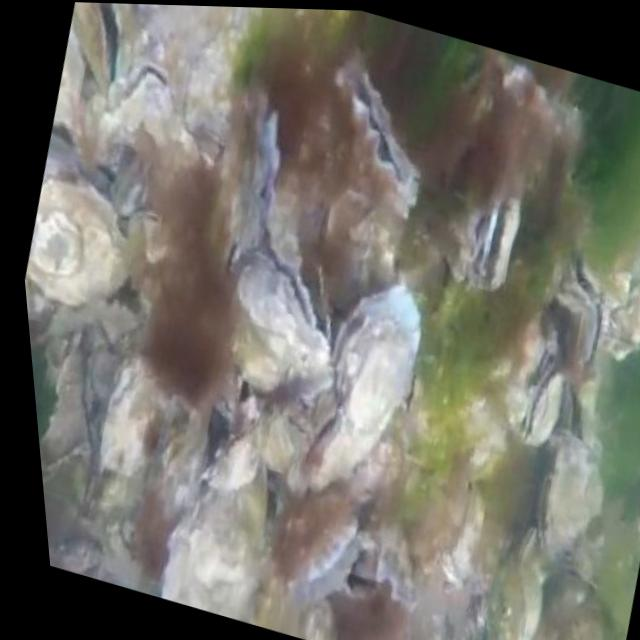Oyster-Closed: (511, 419, 631, 579)
Oyster-Indeterminate: (143, 419, 309, 629), (15, 169, 154, 325), (256, 475, 383, 611), (77, 357, 197, 492), (394, 462, 502, 591), (137, 396, 235, 508), (248, 570, 375, 640), (478, 547, 563, 640), (46, 514, 124, 584)
Oyster-Open: (286, 266, 452, 506), (302, 47, 453, 217), (211, 242, 368, 392), (442, 175, 542, 301), (73, 42, 187, 146), (532, 251, 630, 370), (64, 2, 159, 102), (510, 360, 575, 452), (210, 372, 275, 437)
